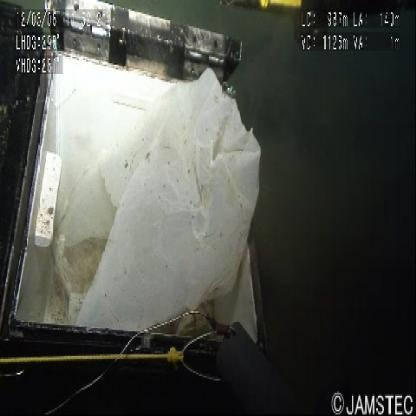Rác: (33, 51, 270, 333)
